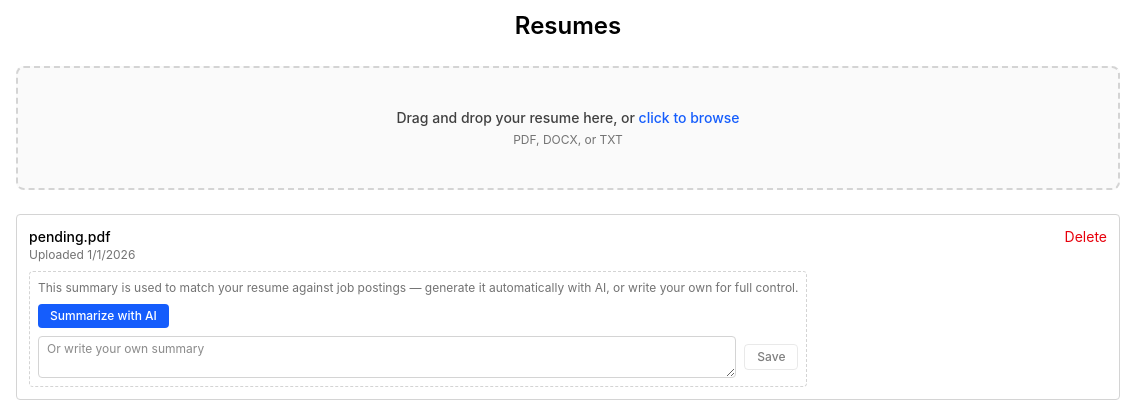
Scenario: ResumesPage › summarizes a pending resume with AI when the button is clicked
The image size is (1137, 417).
Click the button "Summarize with AI".
click(103, 316)  # box [38,304,169,328]
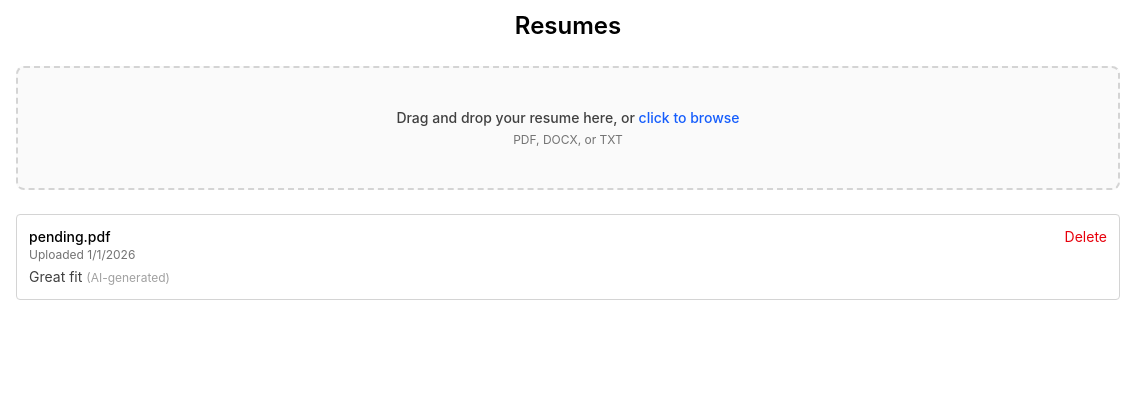
Expected: the text "Great fit (AI-generated)" is shown, [29,267,170,287]
